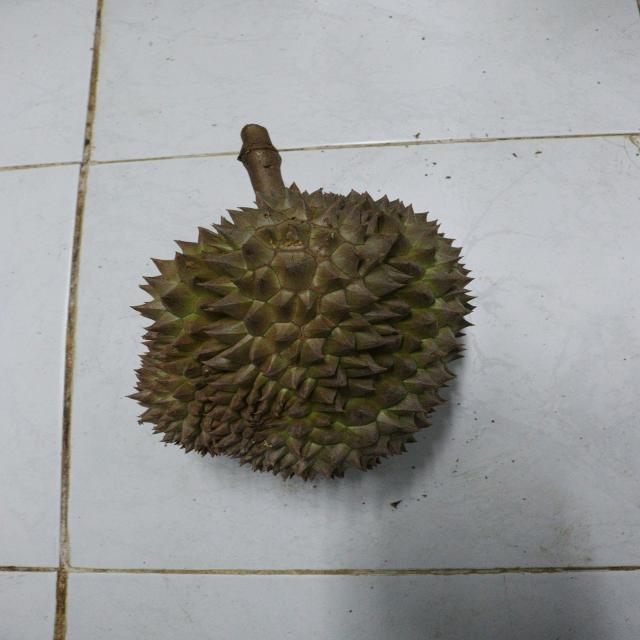mature: (131, 190, 475, 476)
